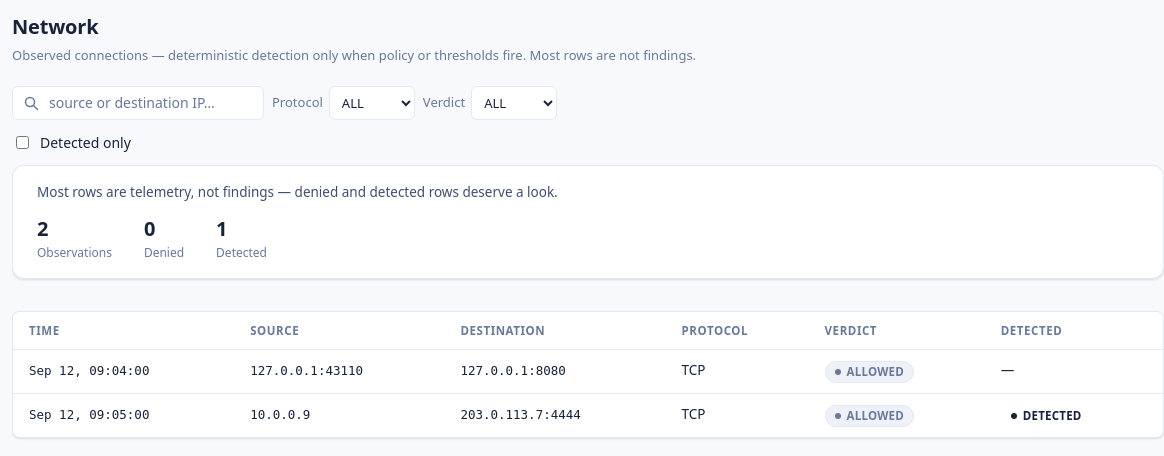
Test: Network › filters by protocol and detected-only
Expected: the text "127.0.0.1:43110" is shown, [250,363,363,378]
Select "TCP" in the dropdown labelled "Protocol" at {"x": 372, "y": 102}, box [329,86,415,120]
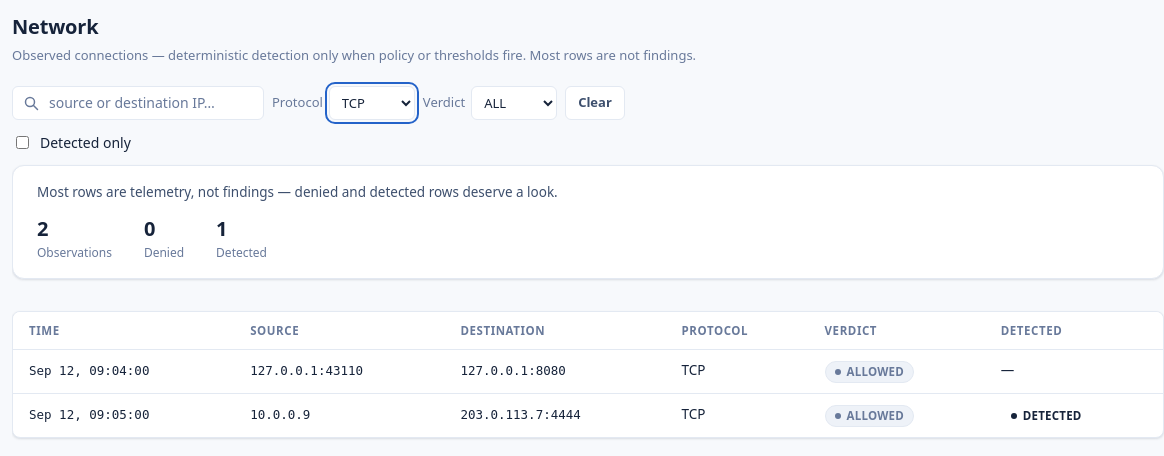
Click the checkbox labelled "Detected only" at {"x": 22, "y": 142}, box [16,136,29,148]
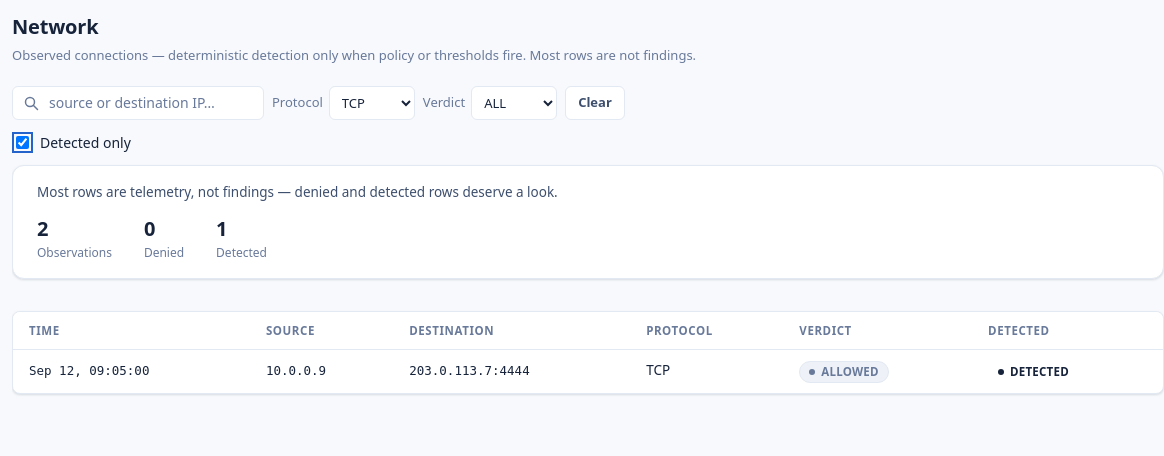
Expected: the text "203.0.113.7:4444" is shown, [409,363,530,378]
Now the text "127.0.0.1:43110" is gone
